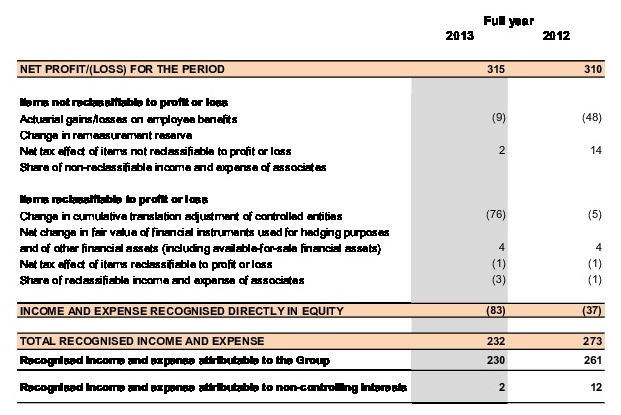table: (0, 0, 621, 415)
